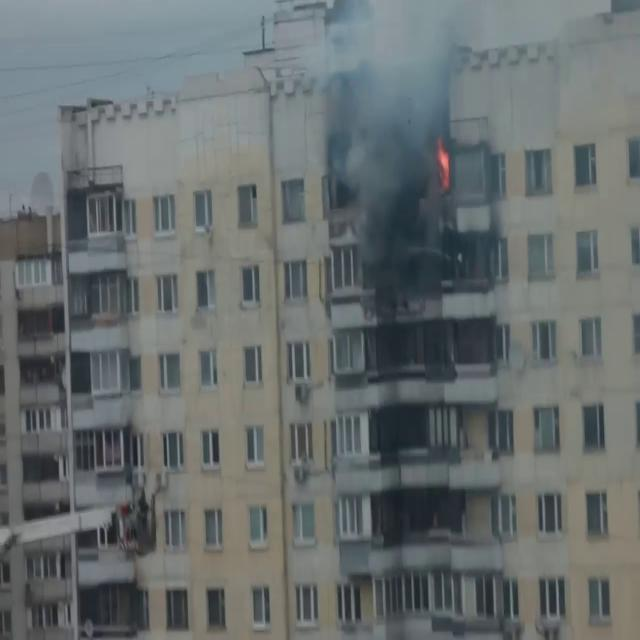Smoke: (309, 0, 497, 302)
